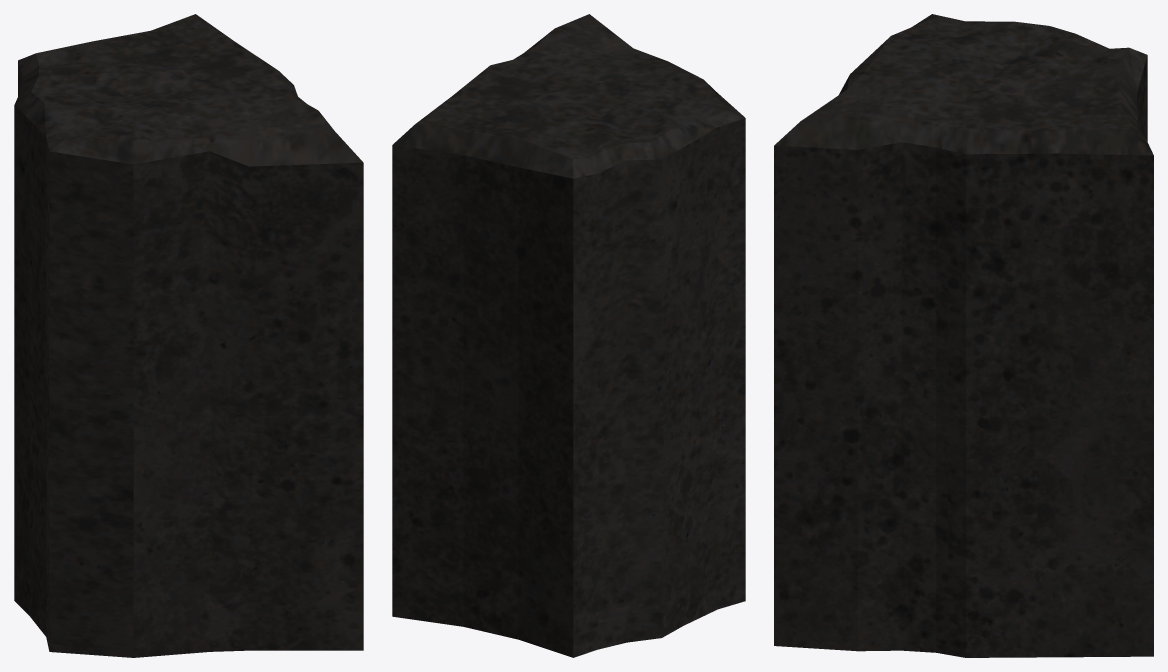
File: TrapFloorS03.fbx
3 renders of one model, left to right at view 1: azimuth 30°, elevation 25°; view 2: azimuth 150°, elevation 25°; view 3: azimuth 270°, elevation 25°, orthographic. The views are drawn at different scales.
Parts seen in each view (by area): view 1: SM_ENV_NATURE_Cave_Floor_Trap_02.mo; view 2: SM_ENV_NATURE_Cave_Floor_Trap_02.mo; view 3: SM_ENV_NATURE_Cave_Floor_Trap_02.mo.
Part boxes in pixels (x1,y1,x2,y2): SM_ENV_NATURE_Cave_Floor_Trap_02.mo: (14, 14, 363, 657); SM_ENV_NATURE_Cave_Floor_Trap_02.mo: (392, 14, 745, 657); SM_ENV_NATURE_Cave_Floor_Trap_02.mo: (774, 14, 1153, 657).
Size of the model in its own units: 98.14 by 183 by 121.
1 material, 1 textured.
